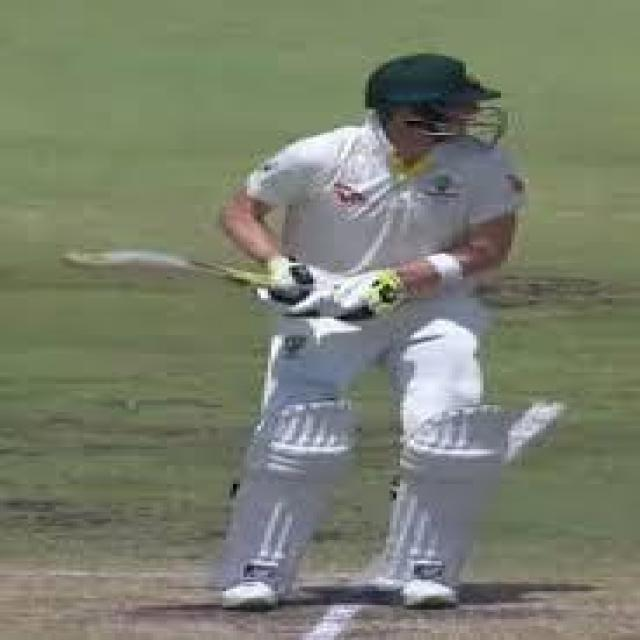bat: (63, 238, 293, 306)
toe: (66, 244, 121, 275)
